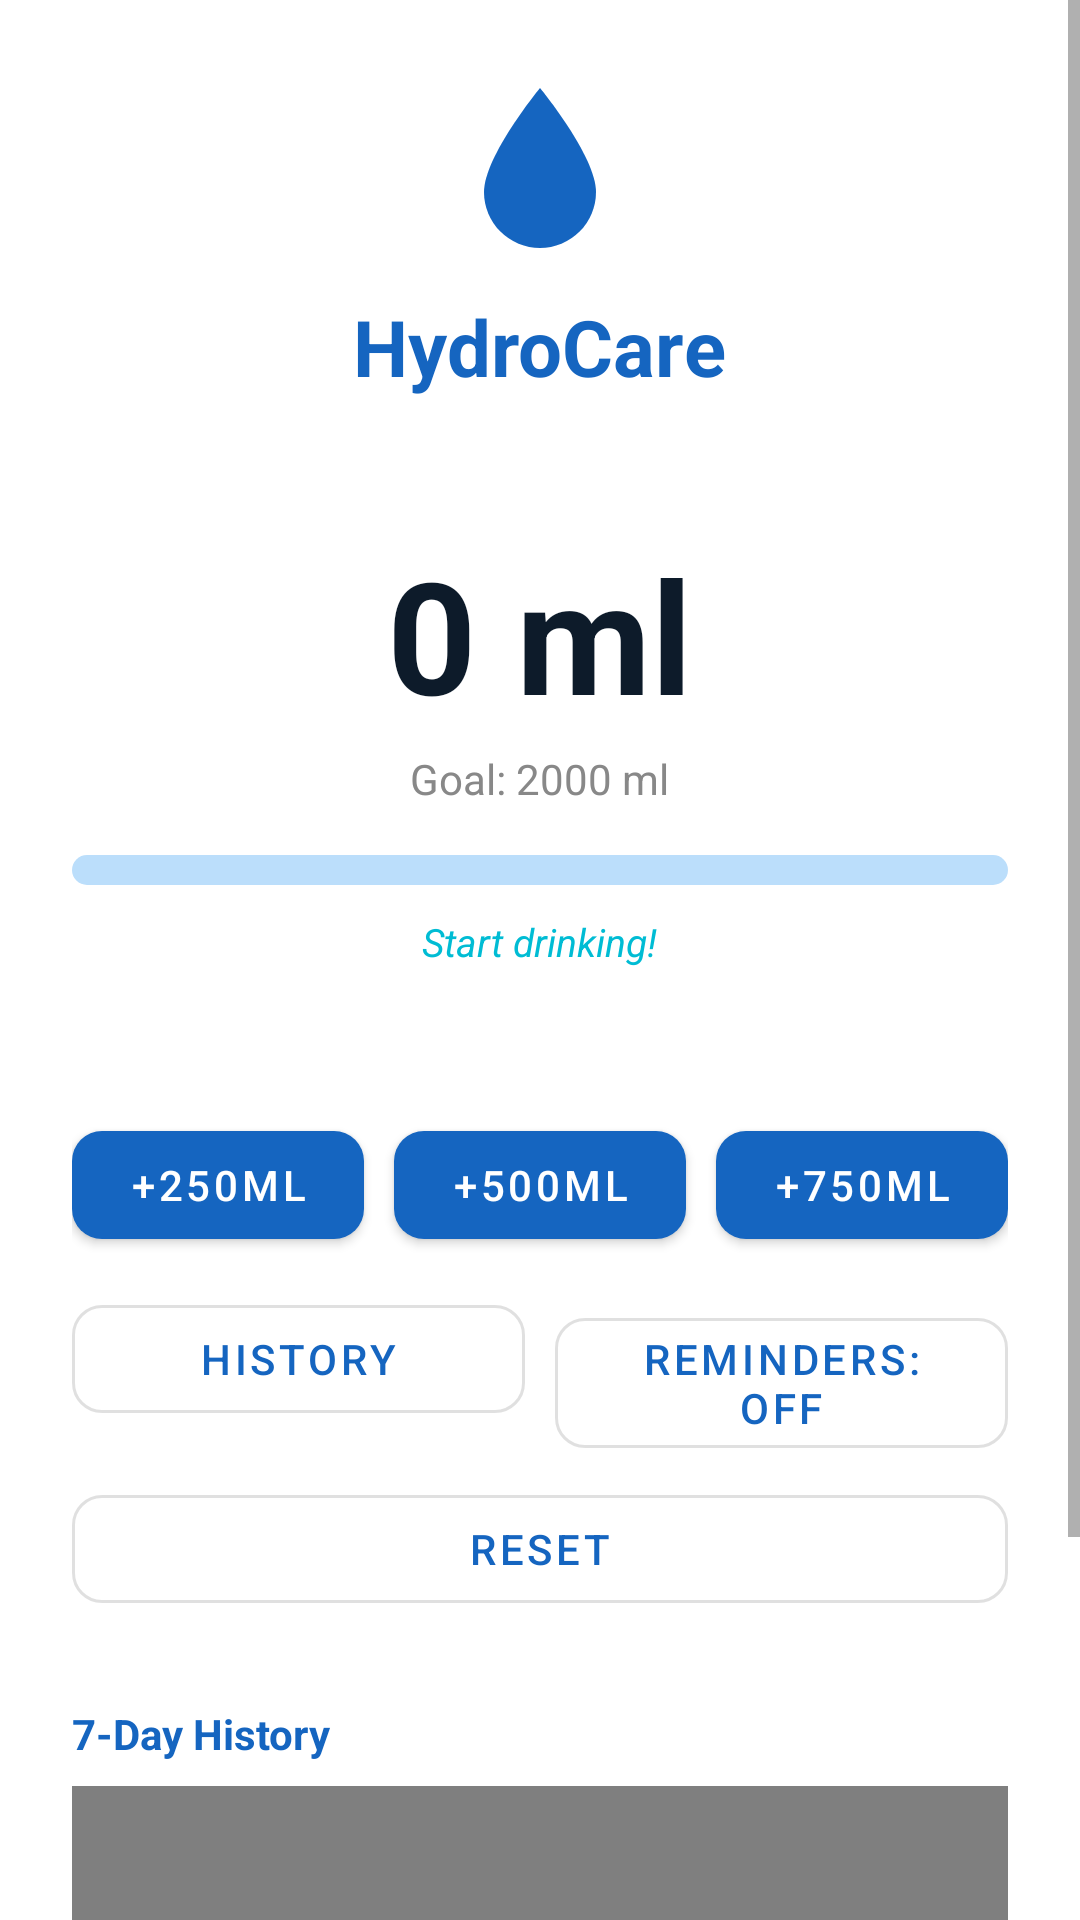

Icons on this 1080*1920 Android screen, each with its box as [x1,y1,x2,y2]:
water drop: [484,88,596,248]
